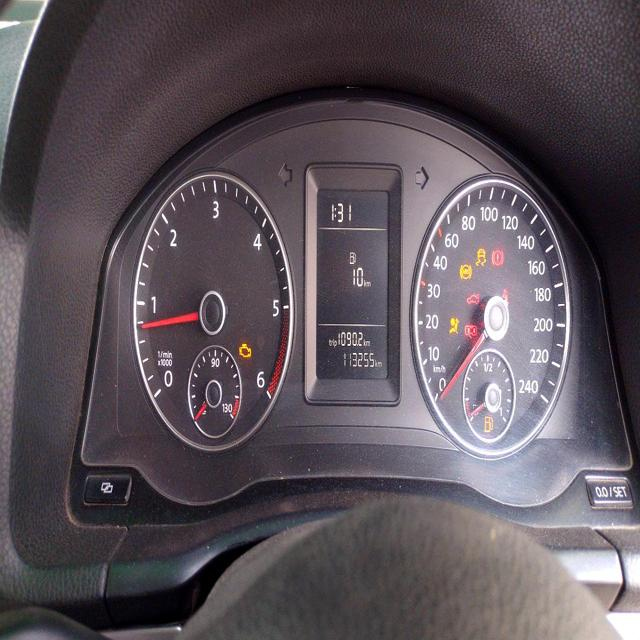odometer: (341, 348, 378, 374)
